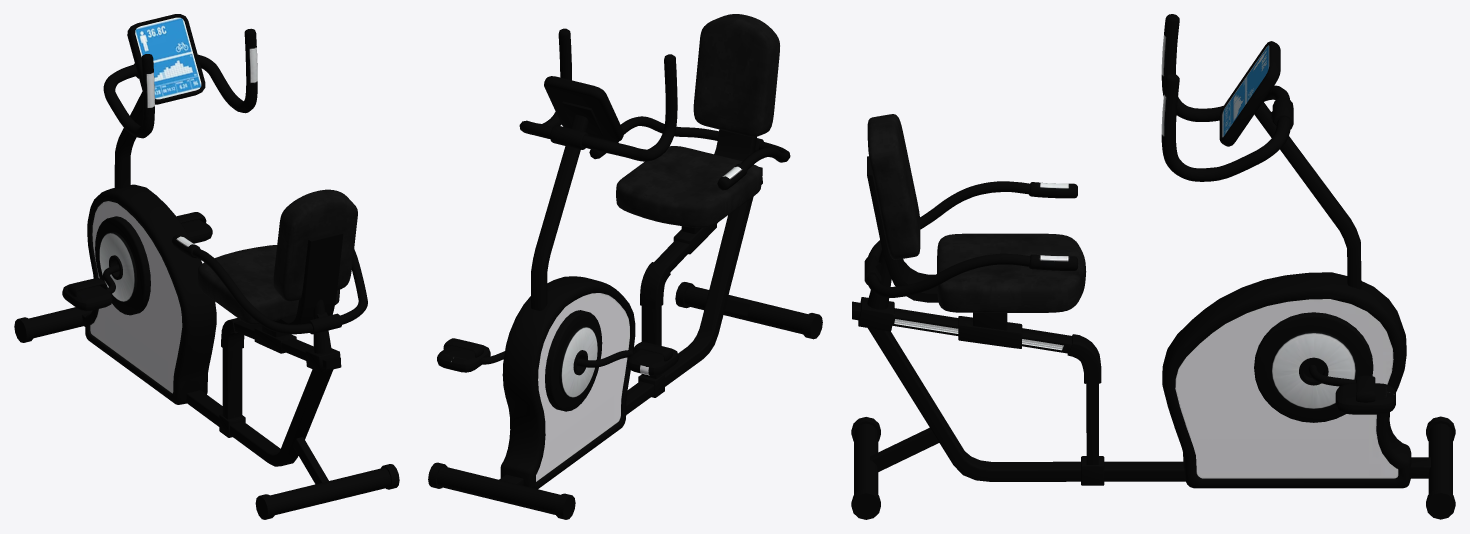
The model's file is recumbent.glb.
3 renders of one model, left to right at view 1: azimuth 30°, elevation 25°; view 2: azimuth 150°, elevation 25°; view 3: azimuth 270°, elevation 25°, orthographic. The views are drawn at different scales.
Visible parts, largest first — view 1: Cylinder.070_Material.002_0; view 2: Cylinder.070_Material.002_0; view 3: Cylinder.070_Material.002_0.
Boxes of the visible parts, box(x1,y1,x2,y2) form: Cylinder.070_Material.002_0: box(14, 14, 399, 519); Cylinder.070_Material.002_0: box(428, 14, 822, 519); Cylinder.070_Material.002_0: box(851, 14, 1455, 519).
Bounding box in the file's own units: 0.6684 × 1.32 × 1.65.
Materials: 1 (1 with a texture image).
